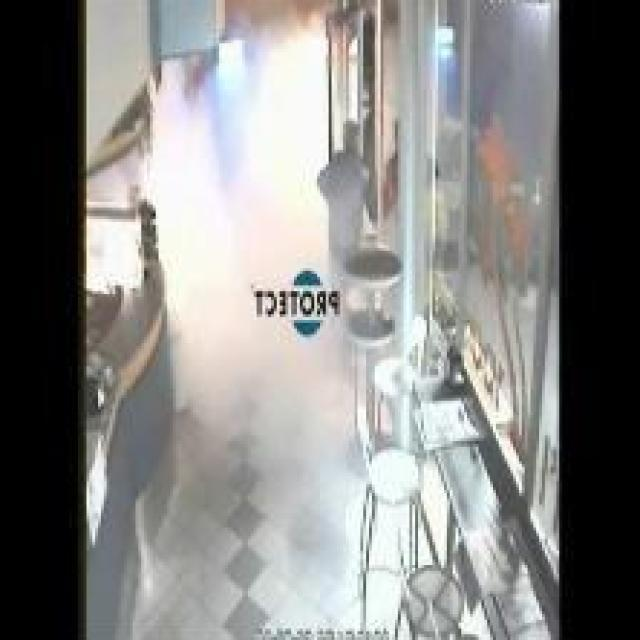fire: (168, 13, 342, 428)
